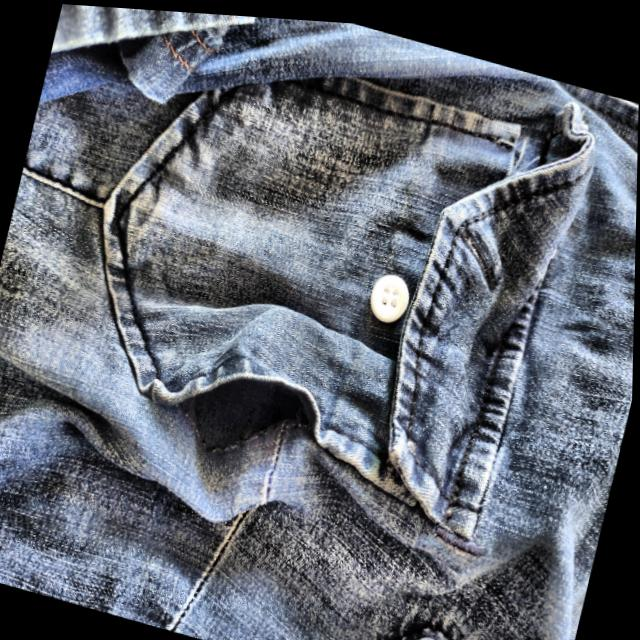seam: (135, 332, 342, 486)
